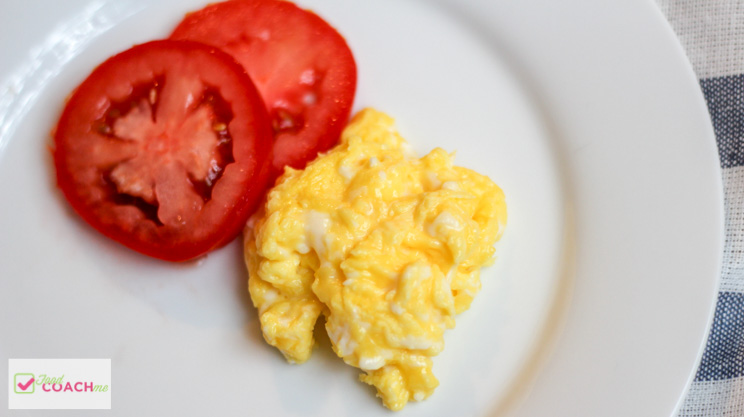scrambled-egg: (240, 108, 506, 412)
